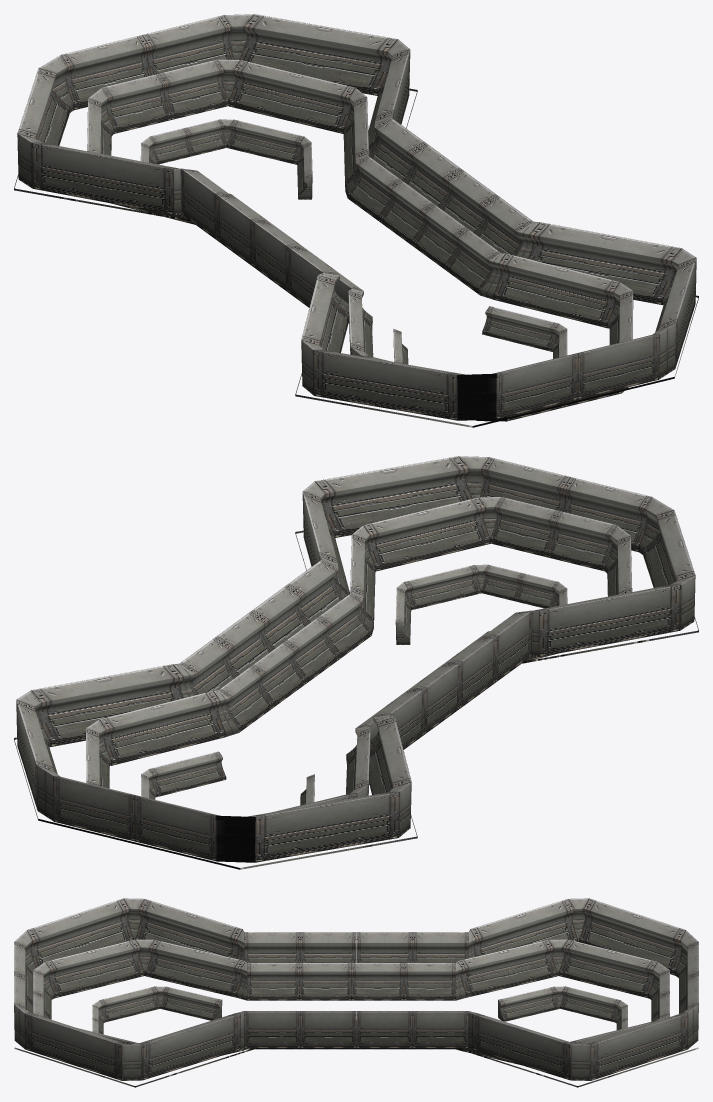
File: wall_tes.FBX
The picture shows the model from 3 angles, top to bottom: view 1: azimuth 30°, elevation 25°; view 2: azimuth 150°, elevation 25°; view 3: azimuth 270°, elevation 25°; orthographic projection. The views are drawn at different scales.
Parts seen in each view (by area): view 1: Line08; view 2: Line08; view 3: Line08.
Boxes of the visible parts, x1,y1,x2,y2 form: Line08: [14, 14, 698, 427]; Line08: [14, 456, 698, 869]; Line08: [14, 898, 698, 1087].
Bounding box in the file's own units: 1578 × 308 × 2950.
